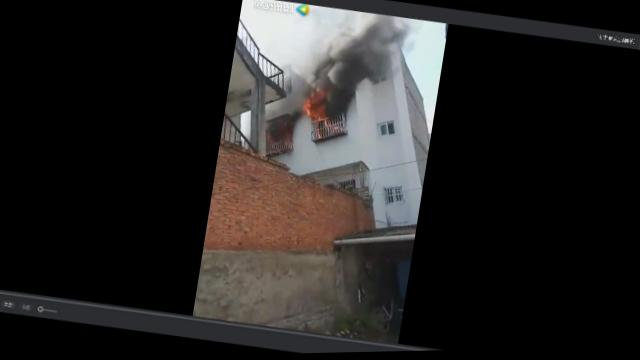fire: (311, 105, 328, 122), (304, 100, 313, 117)
